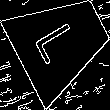L_NE: (34, 17, 89, 68)
